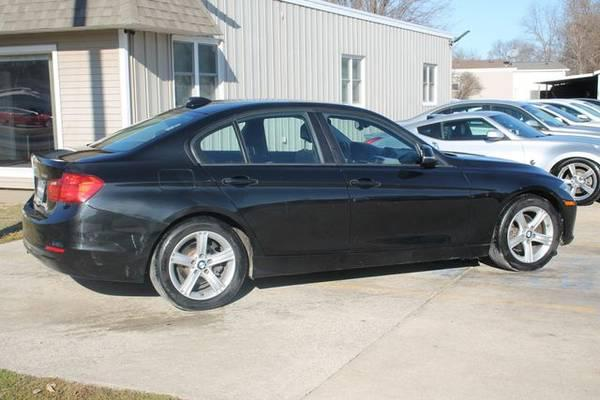Front_Fender: (457, 165, 573, 261)
Front_Right_Door: (341, 168, 470, 270)
Front_Right_Window: (312, 113, 446, 169)
Rear_Bumper: (20, 198, 167, 286)
Rear_Fender: (66, 159, 237, 223)
Rear_Right_Door: (208, 169, 352, 281)
Rear_Right_Window: (188, 114, 333, 168)
Right_Taillight: (45, 173, 102, 204)
Roof: (124, 97, 445, 162)
Wheel: (147, 218, 248, 309), (492, 197, 559, 273)
